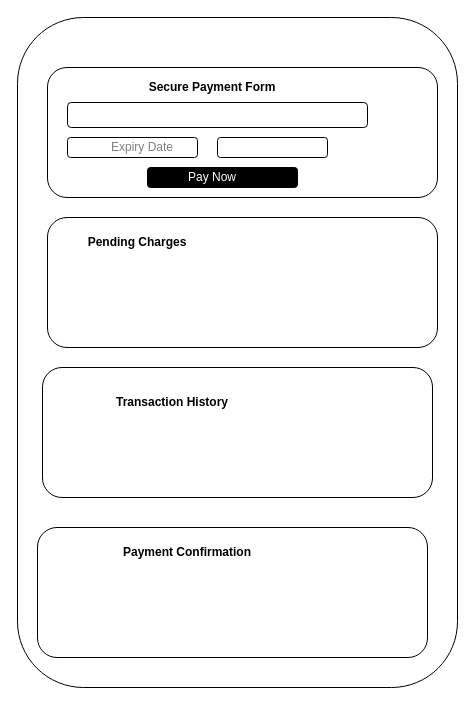
The diagram is 475 pixels wide and 705 high, and some of its shapes have lost their labels. Each missing label, with the centre of its shape:
"Card Number" goes at point (217, 115).
"Cvv" goes at point (272, 147).
